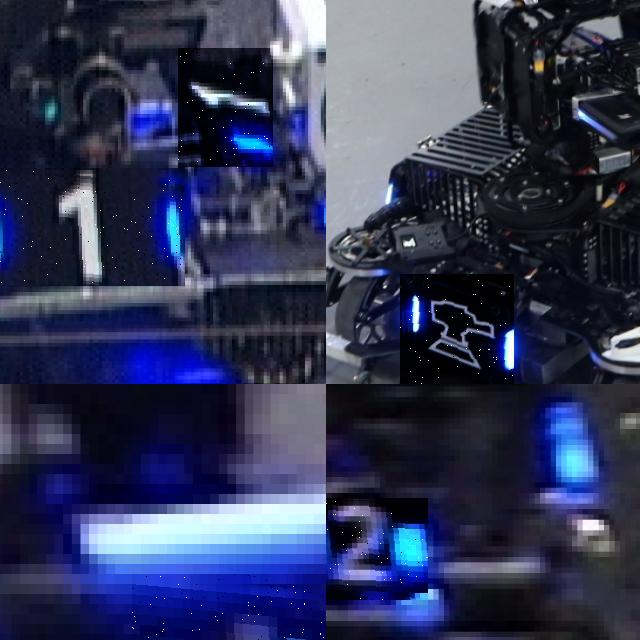B1: (0, 168, 184, 288), (178, 48, 273, 168)
B2: (326, 498, 428, 599)
B4: (132, 574, 326, 640)
Bs: (399, 274, 514, 384)
